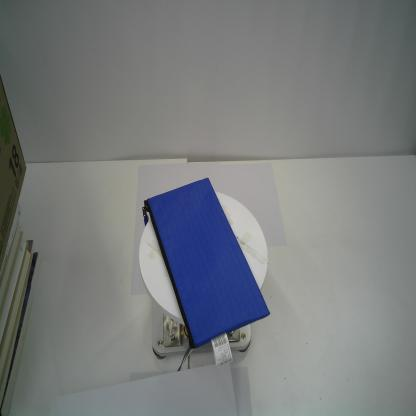Stationery: (142, 178, 271, 350)
